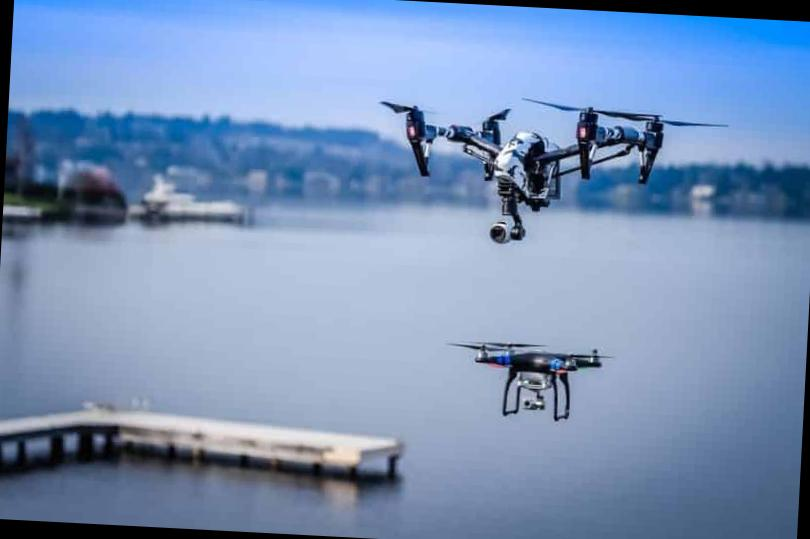drone: (367, 81, 705, 219), (459, 316, 616, 430)
